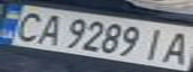2: (78, 18, 106, 53)
8: (100, 20, 127, 56)
9: (118, 22, 148, 60), (57, 16, 87, 51)
A: (27, 11, 69, 46), (154, 29, 193, 66)
C: (3, 9, 51, 43)
I: (136, 25, 175, 62)
